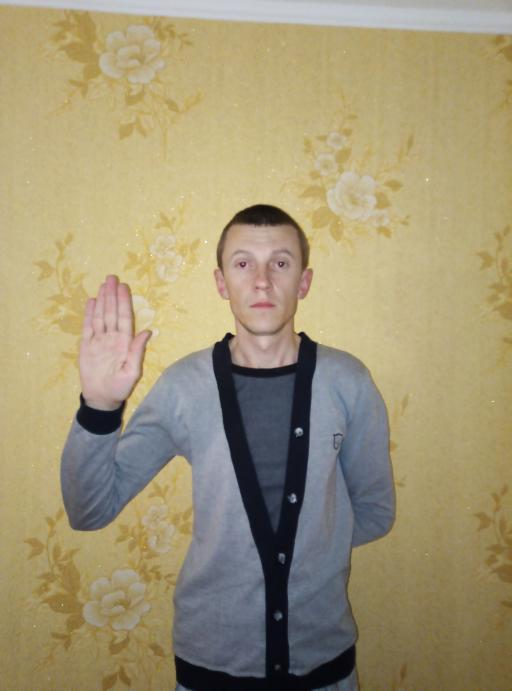stop: (76, 272, 154, 407)
